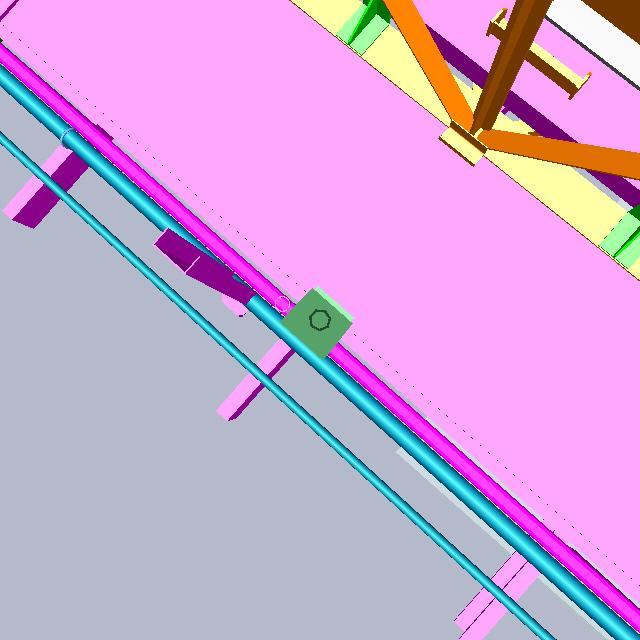Poste: (306, 304, 332, 336)
Soporte: (151, 225, 259, 330)
